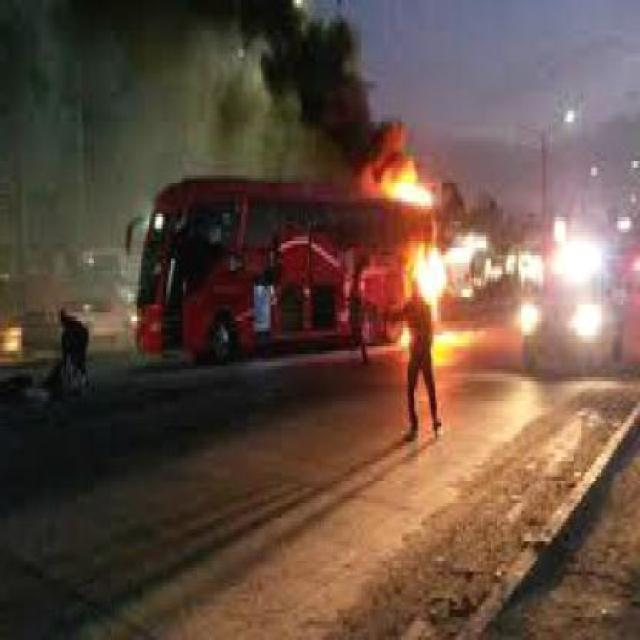Fire: (348, 111, 454, 351)
Smoke: (53, 0, 376, 160)
